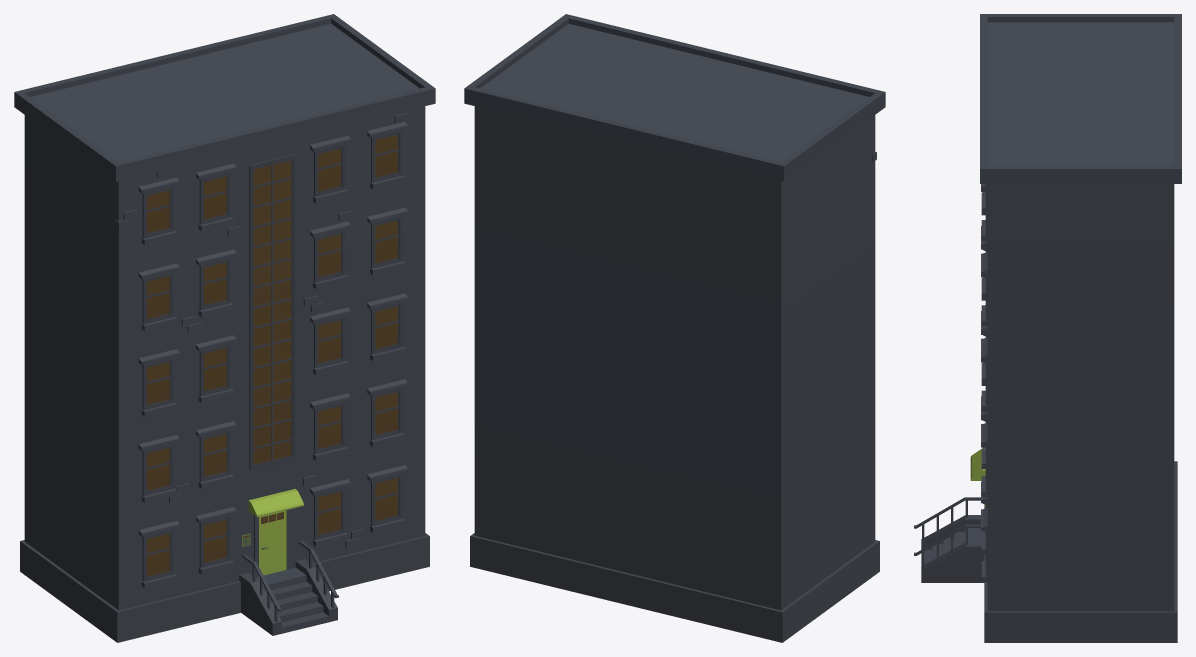
The model's file is House_33.fbx.
3 views of the same model, side by side, from view 1: azimuth 30°, elevation 25°; view 2: azimuth 150°, elevation 25°; view 3: azimuth 270°, elevation 25° (orthographic).
Visible parts, largest first — view 1: House_33; view 2: House_33; view 3: House_33.
Part boxes in pixels (x1,y1,x2,y2): House_33: (14,14,435,642); House_33: (464,14,885,642); House_33: (914,14,1181,642).
Bounding box in the file's own units: 10.94 × 15.68 × 8.
